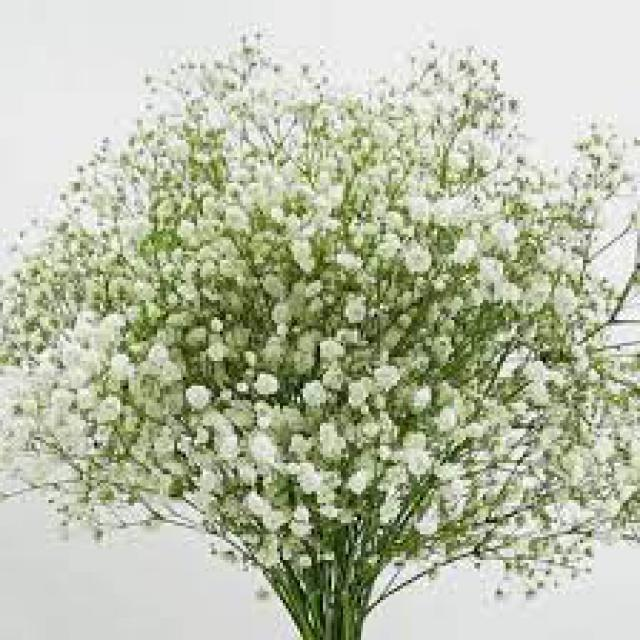gypsophila: (1, 5, 637, 603)
